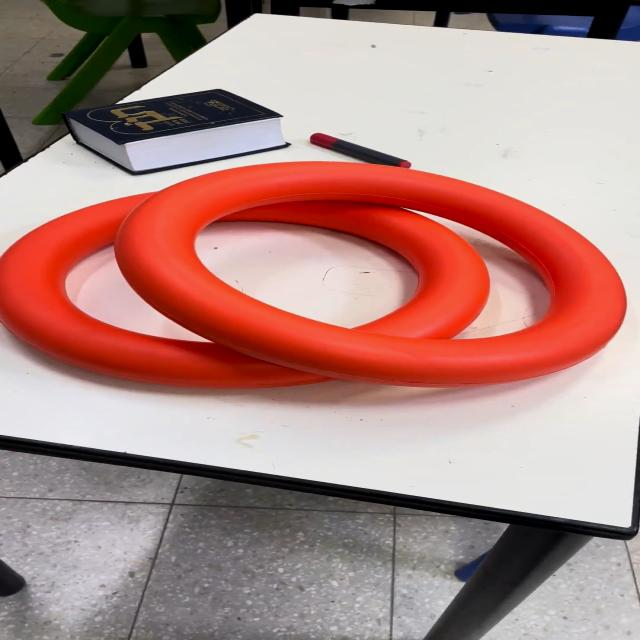note: (3, 160, 628, 392)
